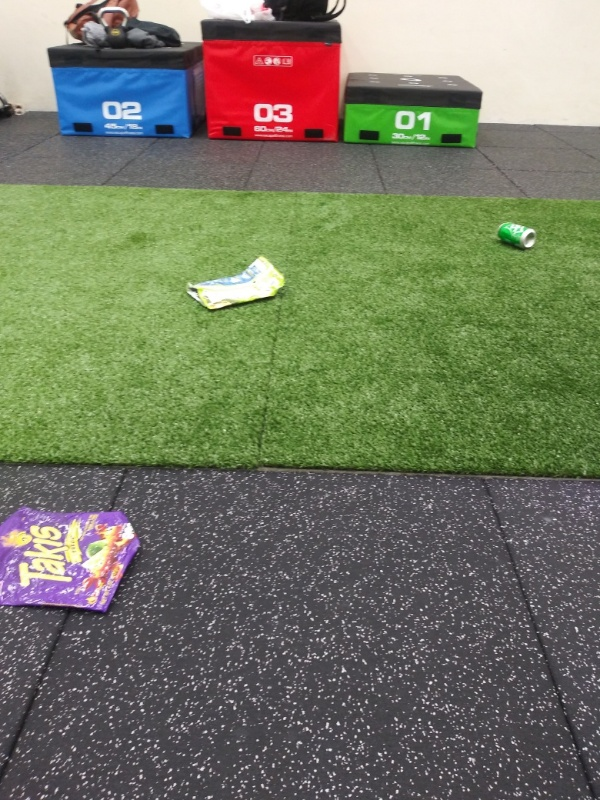bag: (1, 504, 143, 619), (182, 250, 290, 312)
can: (490, 220, 542, 251)
